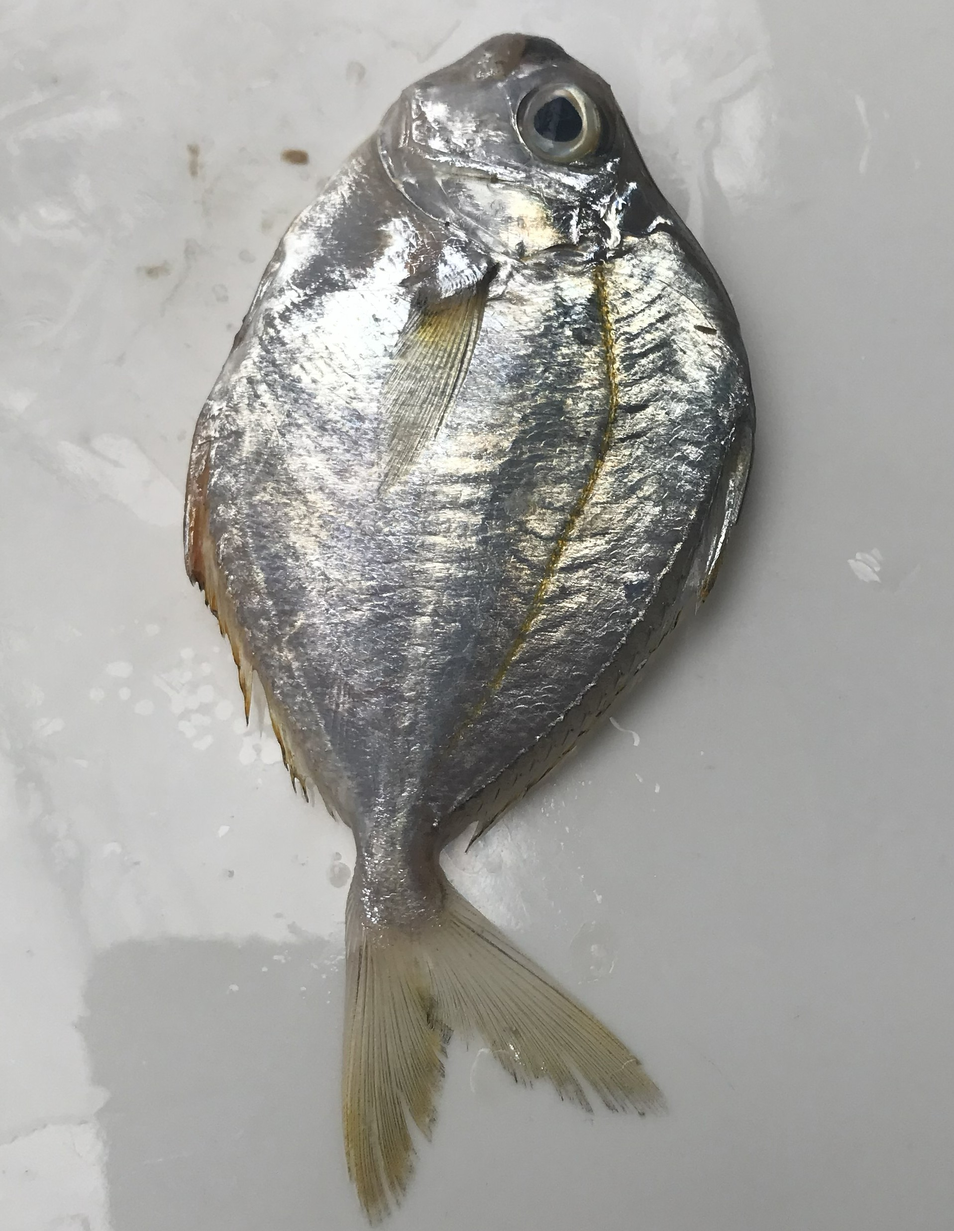sap_sap_not_dried: (183, 33, 784, 1231)
